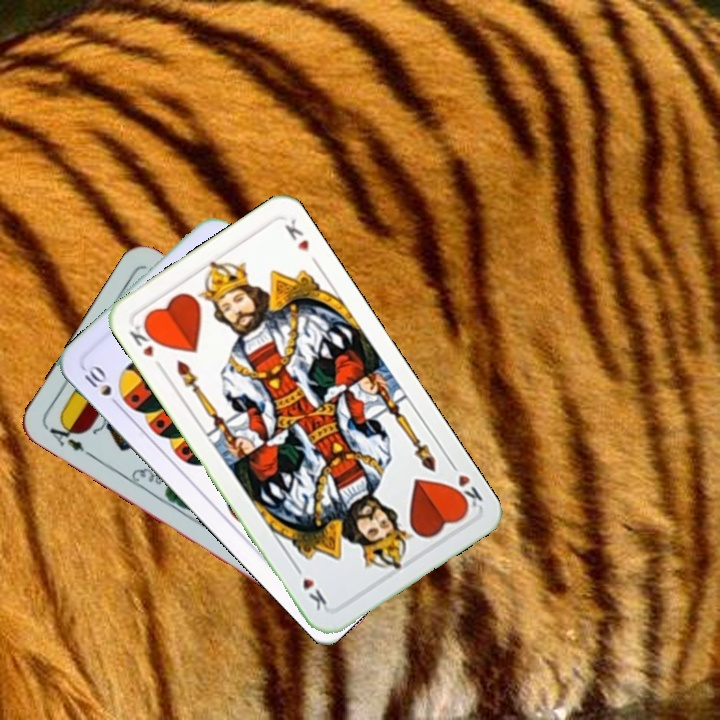EA: (42, 417, 95, 460)
HK: (445, 456, 485, 514), (125, 318, 162, 360)
S10: (78, 359, 128, 411)
